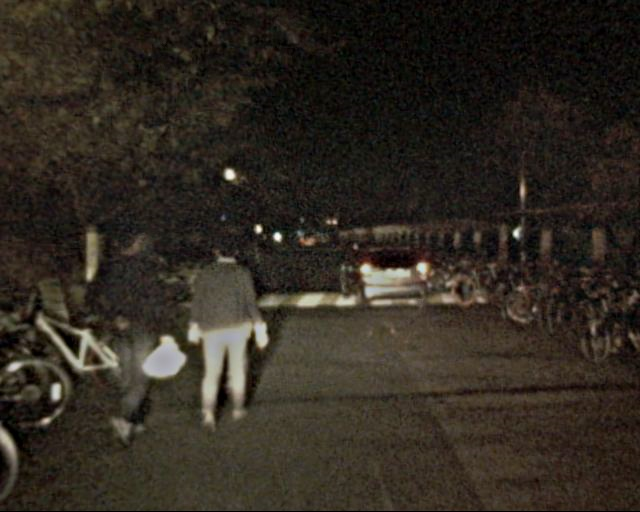person: (82, 221, 172, 444), (187, 237, 264, 426)
